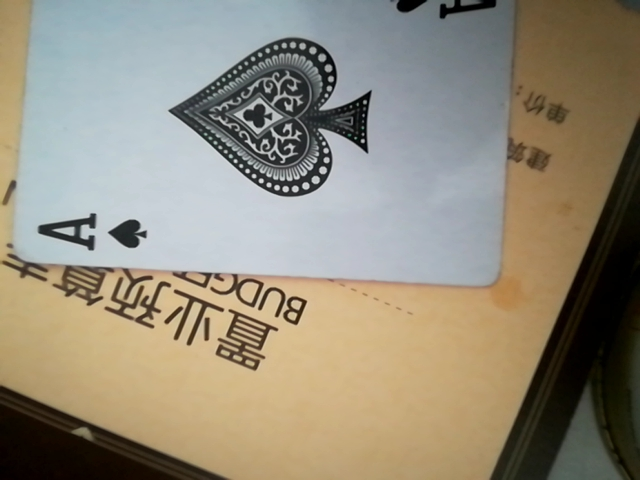ht a: (4, 2, 518, 289)
